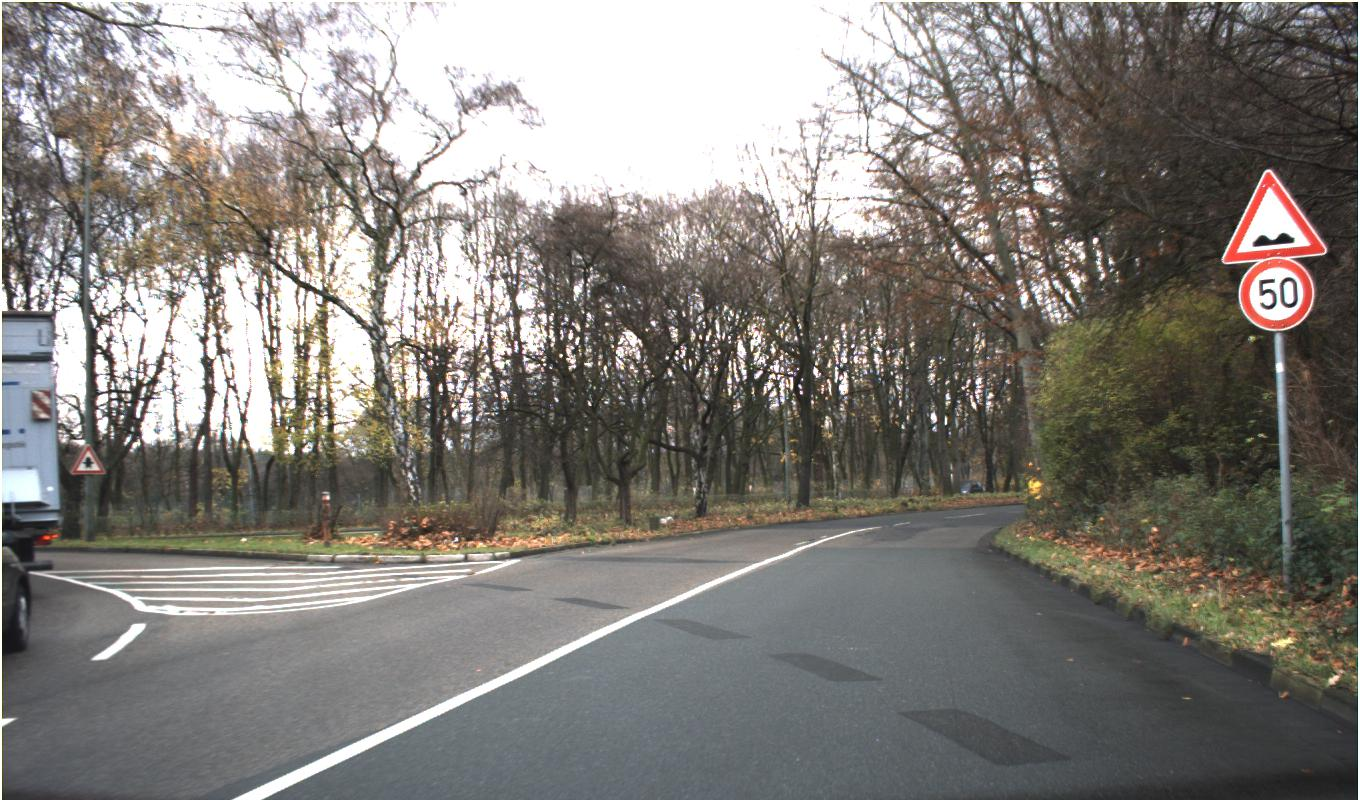danger: (1220, 168, 1327, 264), (69, 445, 107, 475)
prohibitory: (1238, 256, 1314, 331)
